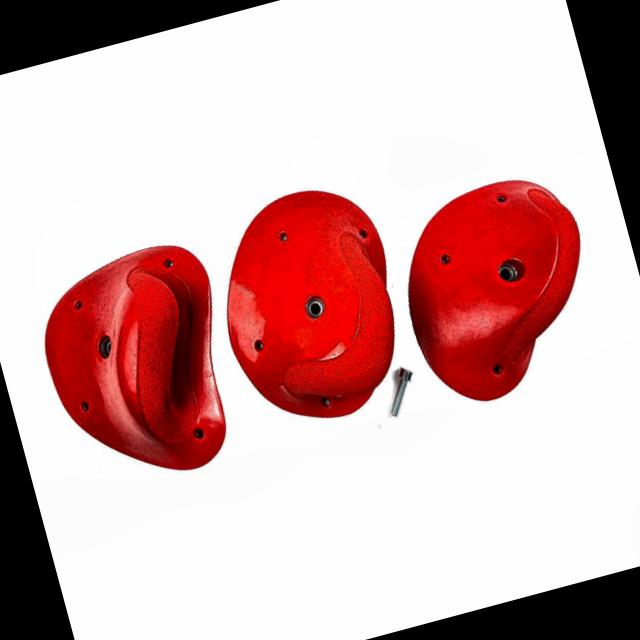Hold: (18, 230, 258, 501), (198, 170, 424, 441), (378, 160, 612, 414)
